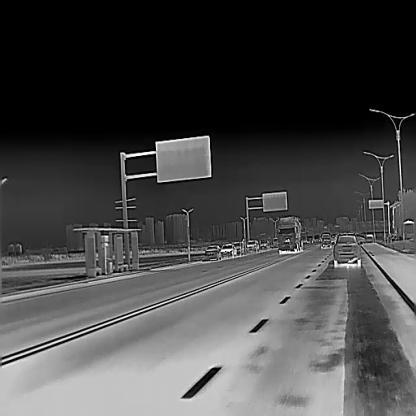car: (275, 215, 303, 255), (332, 232, 363, 268), (204, 244, 221, 258), (221, 243, 237, 256), (320, 232, 331, 250), (246, 239, 259, 251), (232, 240, 242, 254), (259, 239, 270, 248), (365, 232, 374, 243), (314, 235, 319, 242)
